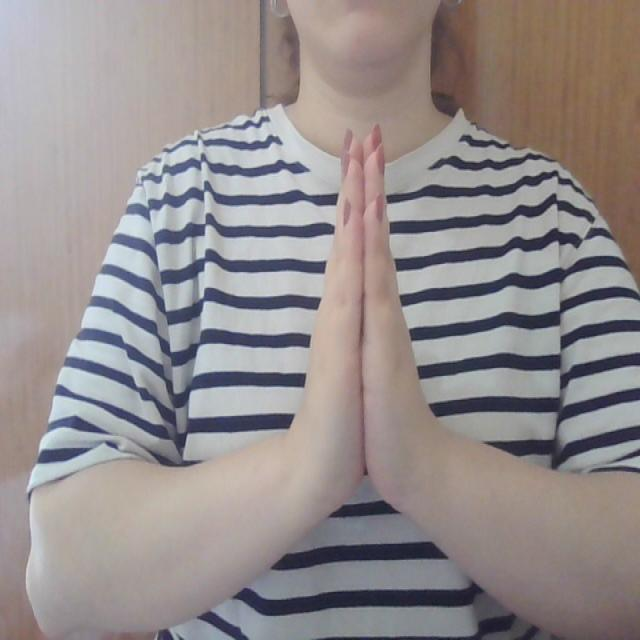Ozur-Dilemek: (286, 118, 439, 553)
